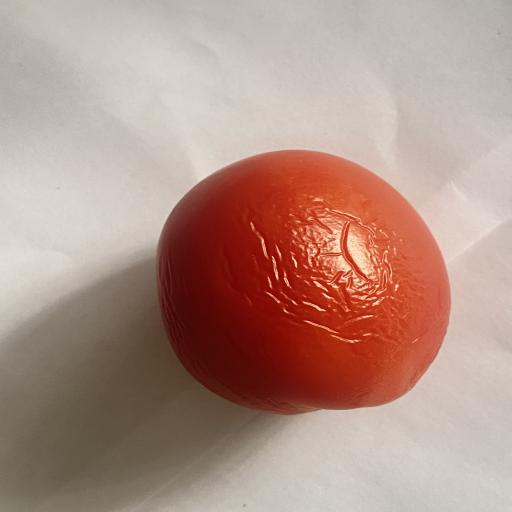spoiled: (157, 150, 450, 414)
